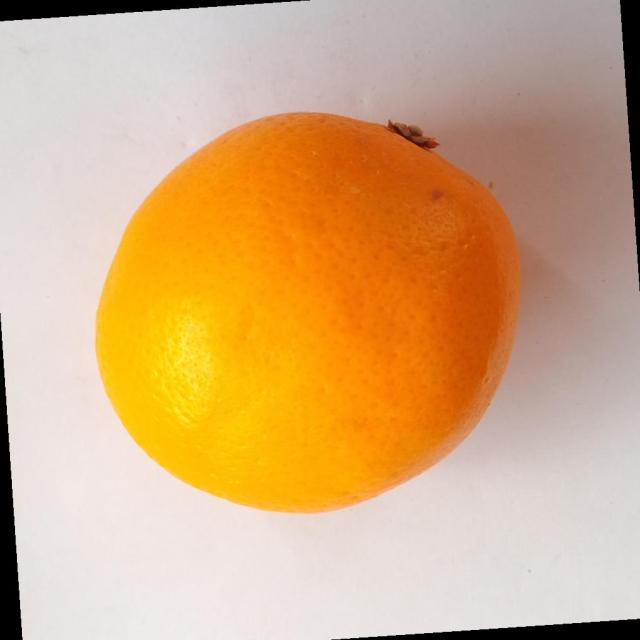fresh orange: (94, 109, 522, 515)
